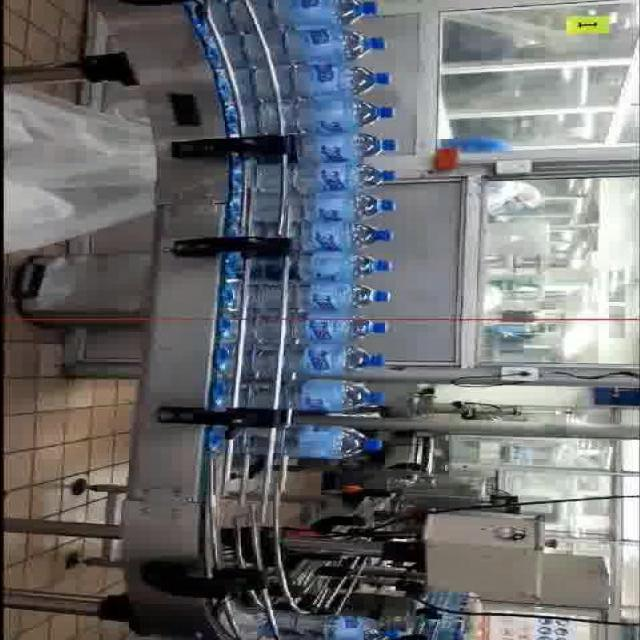bottle: (220, 27, 392, 69), (206, 422, 384, 461), (213, 341, 386, 377), (207, 380, 383, 414), (219, 279, 392, 313), (240, 98, 398, 132), (219, 0, 375, 33), (258, 67, 394, 101), (289, 159, 398, 194), (289, 218, 395, 253), (291, 130, 399, 163), (291, 190, 397, 222)
